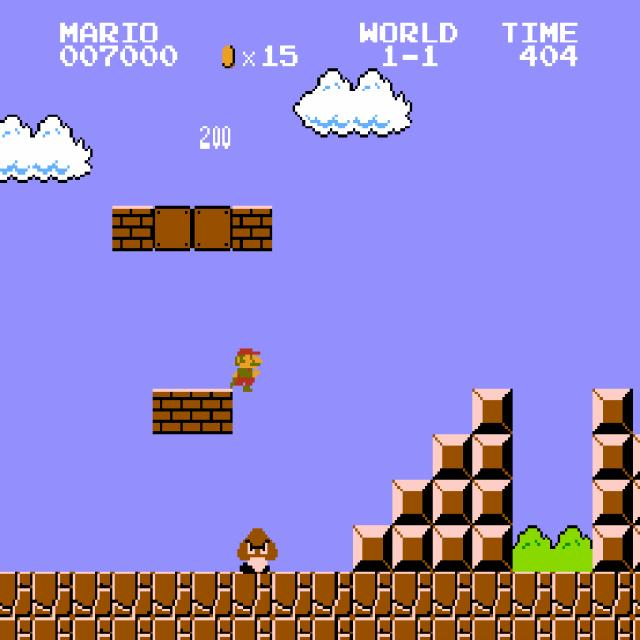brick_block: (112, 206, 153, 251), (152, 389, 193, 434), (192, 389, 233, 434), (232, 206, 273, 251)
empty_block: (152, 206, 193, 251), (192, 206, 233, 251)
goomba: (235, 526, 278, 574)
hard_block: (392, 480, 433, 526), (432, 434, 473, 480), (432, 480, 473, 526), (472, 434, 513, 480), (472, 480, 513, 526), (592, 434, 633, 480), (592, 480, 633, 526), (352, 526, 393, 571), (392, 526, 433, 571), (432, 526, 473, 571), (472, 389, 513, 434), (472, 526, 513, 571), (592, 389, 633, 434), (592, 526, 633, 571), (633, 434, 640, 480), (633, 480, 640, 526), (633, 526, 640, 571)
little_mario: (222, 343, 265, 391)
undestructible_block: (32, 572, 73, 617), (72, 572, 113, 617), (112, 572, 153, 617), (152, 572, 193, 617), (192, 572, 233, 617), (232, 572, 273, 617), (272, 572, 313, 617), (312, 572, 353, 617), (352, 572, 393, 617), (392, 572, 433, 617), (432, 572, 473, 617), (472, 572, 513, 617), (512, 572, 553, 617), (552, 572, 593, 617), (592, 572, 633, 617), (0, 571, 32, 617), (32, 617, 73, 640), (72, 617, 113, 640), (112, 617, 153, 640), (152, 617, 193, 640), (192, 617, 233, 640), (232, 617, 273, 640), (272, 617, 313, 640), (312, 617, 353, 640), (352, 617, 393, 640), (392, 617, 433, 640), (432, 617, 473, 640), (472, 617, 513, 640), (512, 617, 553, 640), (552, 617, 593, 640), (592, 617, 633, 640), (0, 617, 32, 639), (633, 572, 640, 617), (633, 617, 640, 640)
